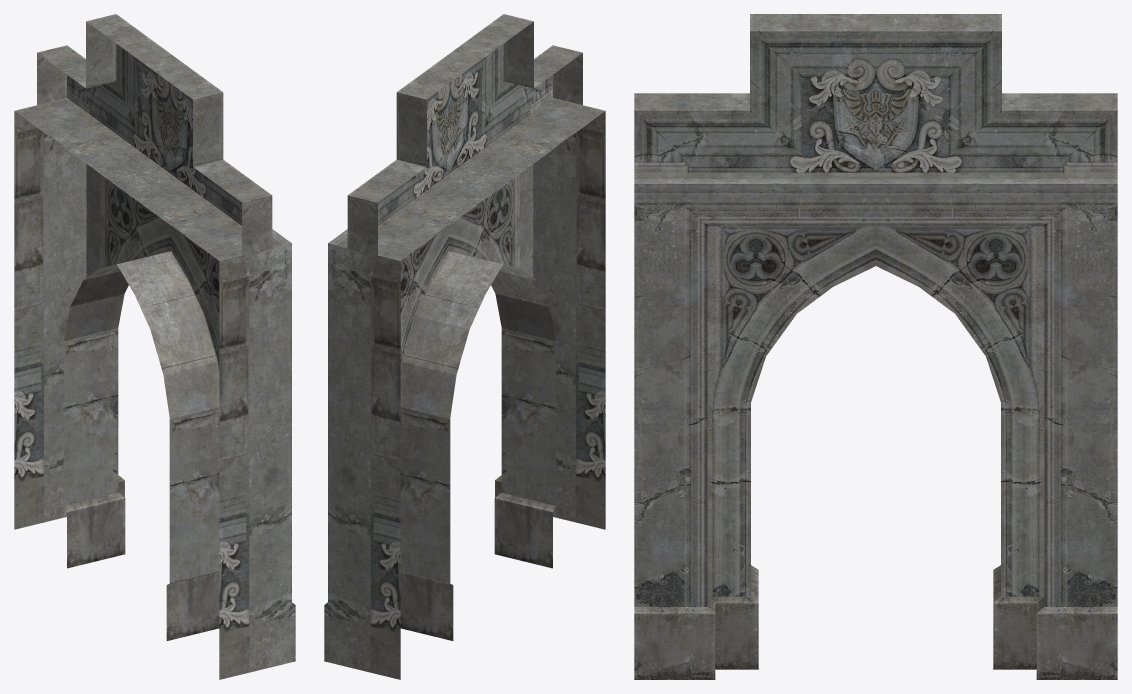
Rendered from bg_lut_lucastle_librarydoor01_sm_psy.FBX.
3 views of the same model, side by side, from view 1: azimuth 30°, elevation 25°; view 2: azimuth 150°, elevation 25°; view 3: azimuth 270°, elevation 25° (orthographic). The views are drawn at different scales.
Parts seen in each view (by area): view 1: bg_lut_lucastle_librarydoor01_sm_psy; view 2: bg_lut_lucastle_librarydoor01_sm_psy; view 3: bg_lut_lucastle_librarydoor01_sm_psy.
Part boxes in pixels (box(x1,y1,x2,y2)): bg_lut_lucastle_librarydoor01_sm_psy: box(14, 14, 295, 679); bg_lut_lucastle_librarydoor01_sm_psy: box(324, 14, 605, 679); bg_lut_lucastle_librarydoor01_sm_psy: box(634, 14, 1117, 679).
Size of the model in its own units: 101 by 681 by 470.
